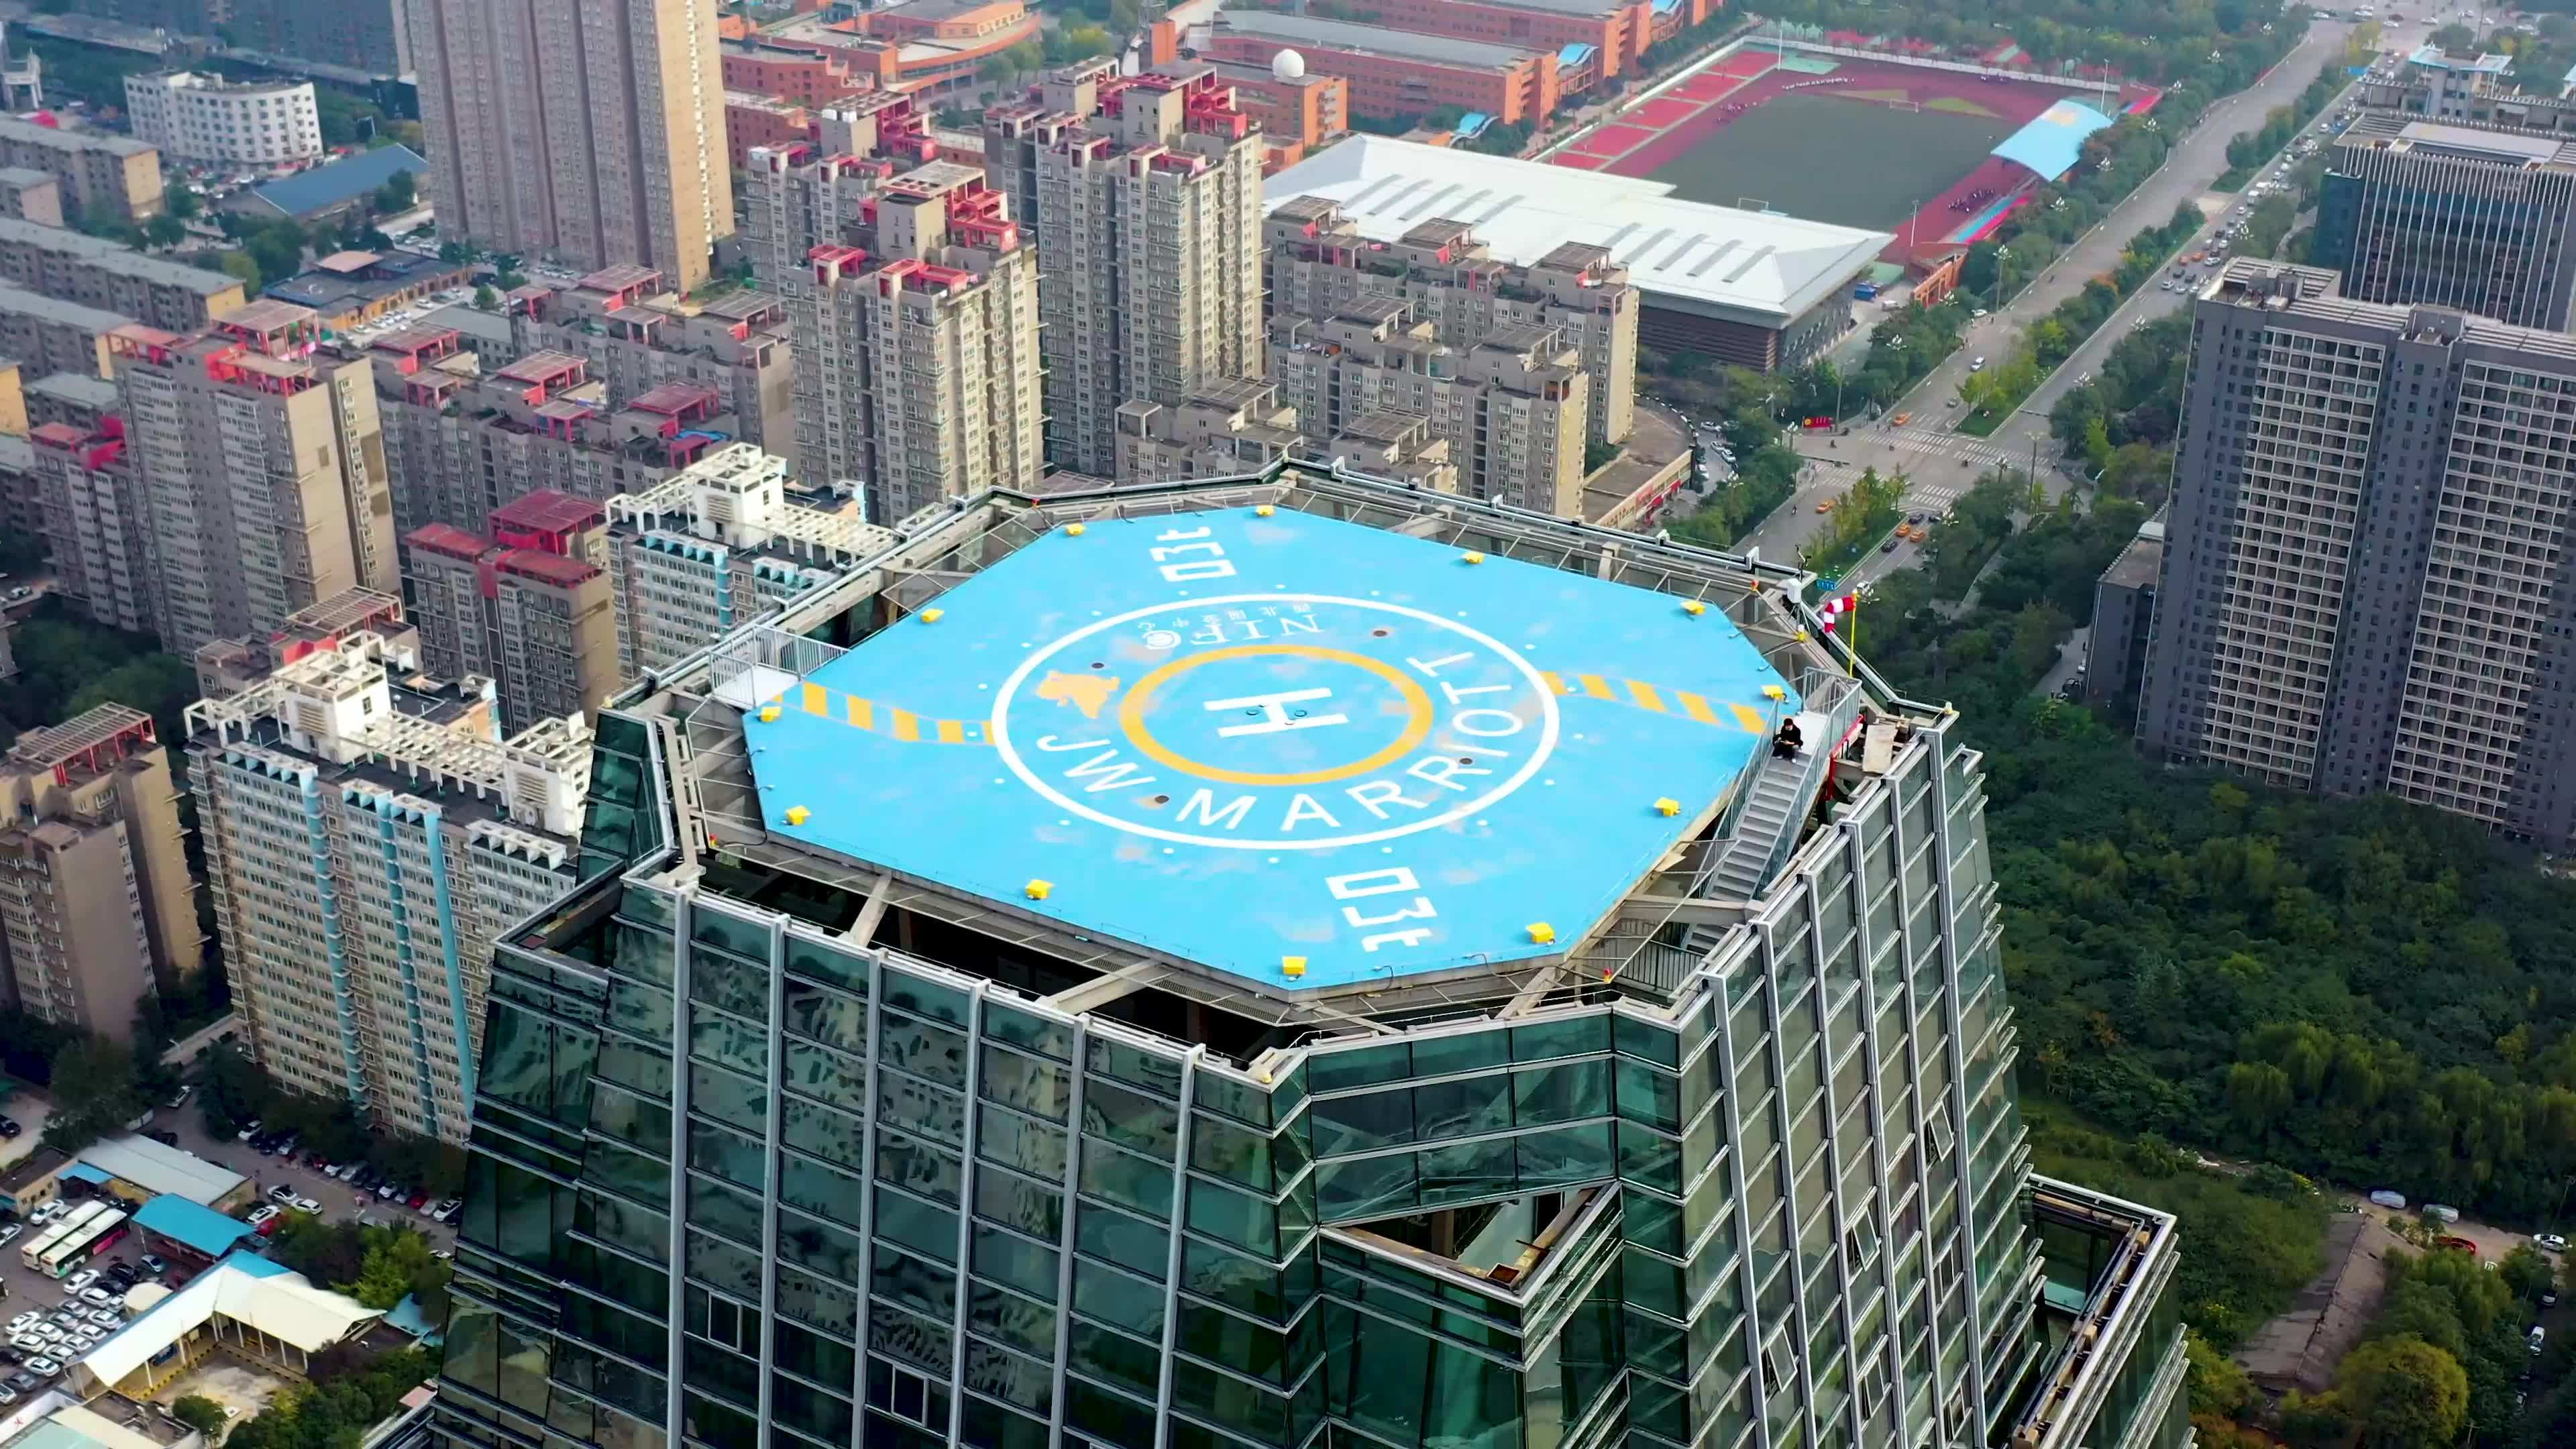Apron: (1115, 649, 1435, 786)
